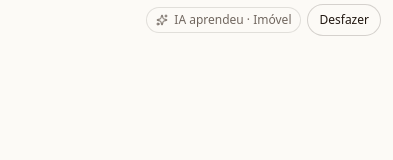
Test: selo 'IA aprendeu' no chat › erro ao desfazer aparece sem quebrar a tela
Click the button "Desfazer": click(344, 20) [308,4,381,36]
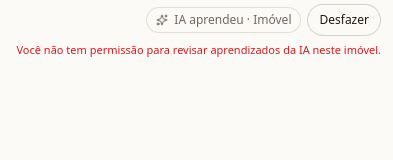
Expected: the message "Você não tem permissão para revisar aprendizados da IA neste imóvel." is shown, [16,42,381,57]
